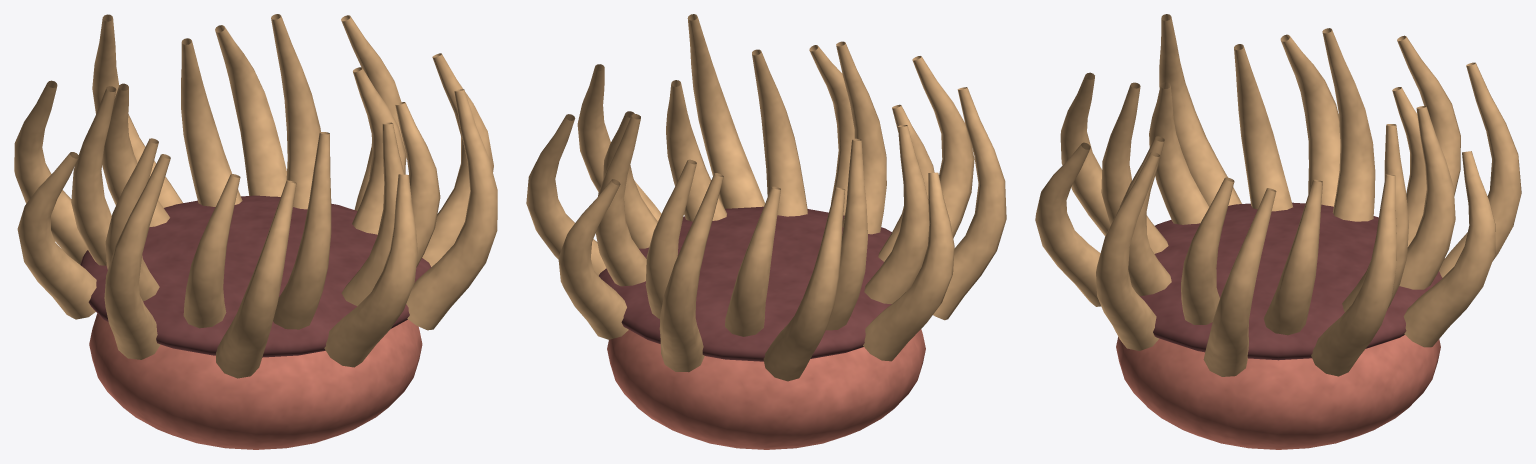
The model's file is anemone.glb.
3 views of the same model, side by side, from view 1: azimuth 30°, elevation 25°; view 2: azimuth 150°, elevation 25°; view 3: azimuth 270°, elevation 25° (orthographic). The views are drawn at different scales.
Visible parts, largest first — view 1: anemone_textured_mesh; view 2: anemone_textured_mesh; view 3: anemone_textured_mesh.
Boxes of the visible parts, <box> form: anemone_textured_mesh: <box>14,14,497,449</box>; anemone_textured_mesh: <box>526,14,1006,449</box>; anemone_textured_mesh: <box>1035,14,1521,449</box>.
Size of the model in its own units: 1.99 by 1.54 by 2.01.
1 material, 1 textured.
